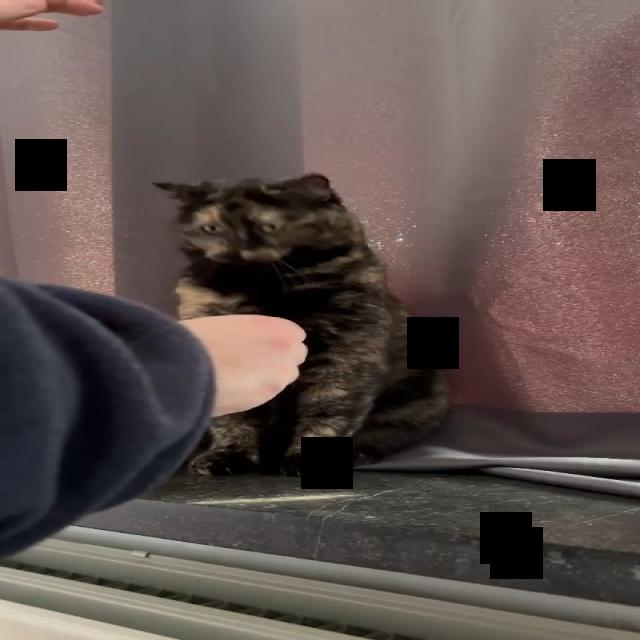authorized: (149, 171, 452, 477)
